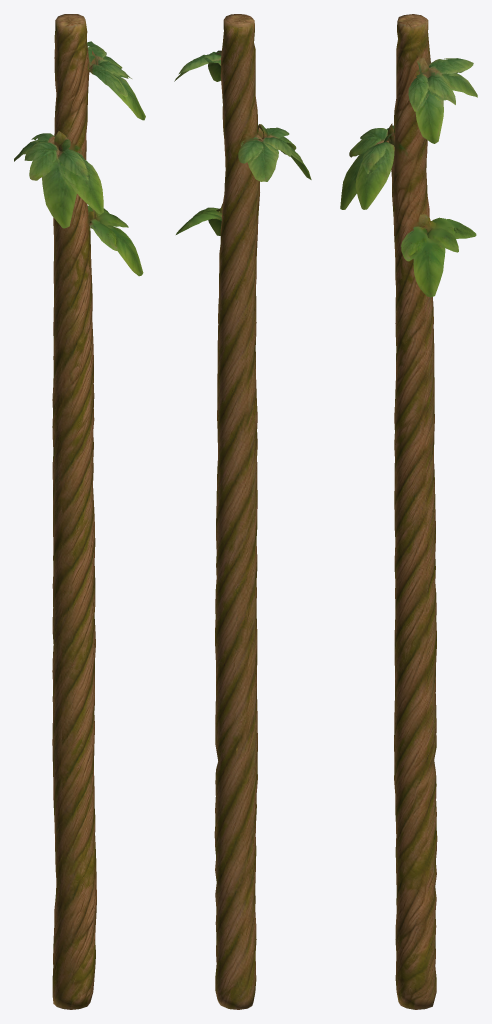
File: Meshy_AI__1026211657_texture.glb
3 renders of one model, left to right at view 1: azimuth 30°, elevation 25°; view 2: azimuth 150°, elevation 25°; view 3: azimuth 330°, elevation 25°, orthographic.
Size of the model in its own units: 0.2319 by 2 by 0.2267.
Materials: 1 (1 with a texture image).
